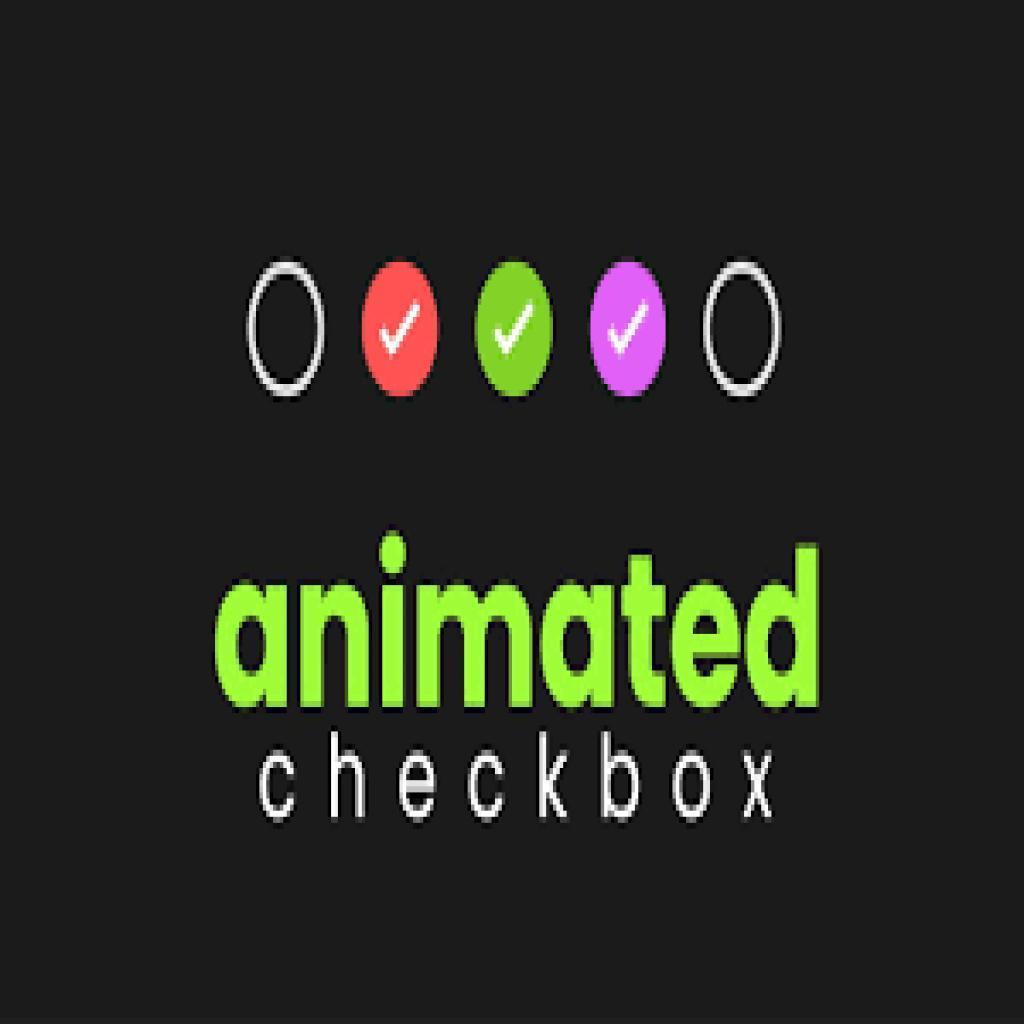checkbox: (578, 246, 671, 405), (348, 259, 442, 414), (474, 256, 558, 417)
radio: (698, 253, 785, 410), (243, 252, 328, 409)
